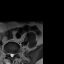CCS_stenosis: (11, 51, 12, 58)
LFS_stenosis: (14, 51, 16, 56)
LLS_normal: (12, 51, 14, 57)
RFS_stenosis: (7, 51, 9, 56)
RLS_normal: (9, 52, 11, 57)
